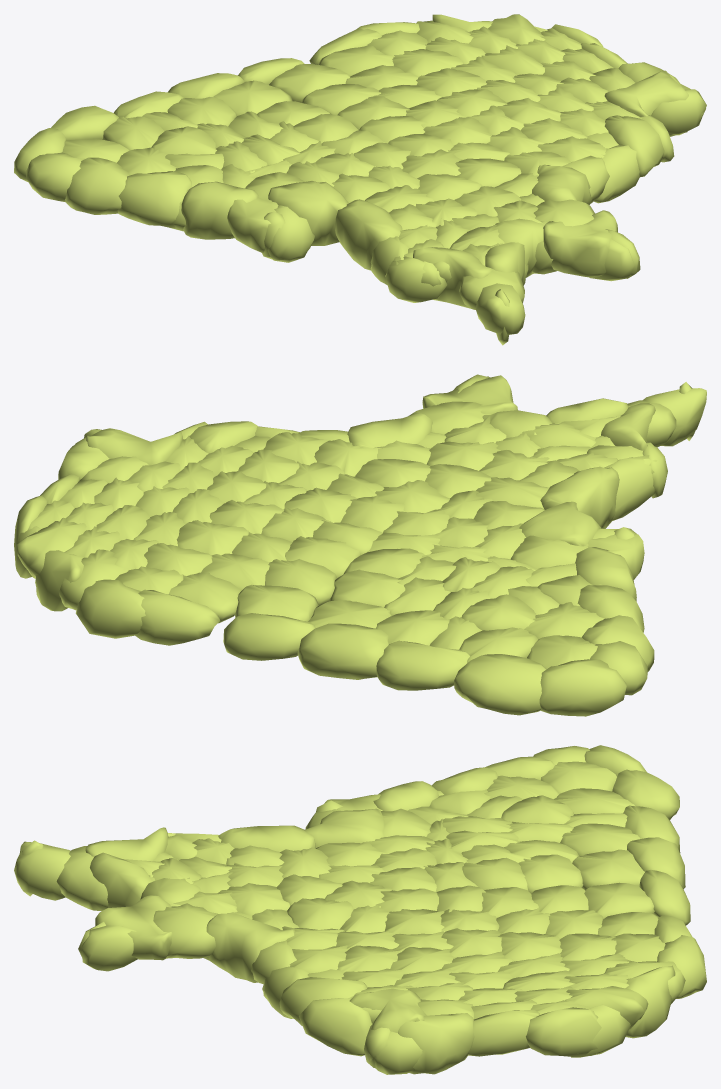
The model's file is Islands1.002_fog.fbx.
3 views of the same model, one above another, from view 1: azimuth 30°, elevation 25°; view 2: azimuth 150°, elevation 25°; view 3: azimuth 270°, elevation 25° (orthographic). The views are drawn at different scales.
Parts seen in each view (by area): view 1: Island1.002_fog_cell.076, Island1.002_fog_cell.111, Island1.002_fog_cell.098, Island1.002_fog_cell.095, Island1.002_fog_cell.021, Island1.002_fog_cell.114, Island1.002_fog_cell.110, Island1.002_fog_cell.075, Island1.002_fog_cell.010, Island1.002_fog_cell.087, Island1.002_fog_cell.123, Island1.002_fog_cell.041 (+98 smaller); view 2: Island1.002_fog_cell.037, Island1.002_fog_cell.103, Island1.002_fog_cell.102, Island1.002_fog_cell.011, Island1.002_fog_cell.066, Island1.002_fog_cell.062, Island1.002_fog_cell.020, Island1.002_fog_cell.021, Island1.002_fog_cell.107, Island1.002_fog_cell.095, Island1.002_fog_cell.110, Island1.002_fog_cell.091 (+96 smaller); view 3: Island1.002_fog_cell.091, Island1.002_fog_cell.119, Island1.002_fog_cell.071, Island1.002_fog_cell.038, Island1.002_fog_cell.076, Island1.002_fog_cell.043, Island1.002_fog_cell.080, Island1.002_fog_cell.123, Island1.002_fog_cell.095, Island1.002_fog_cell.070, Island1.002_fog_cell.034, Island1.002_fog_cell.037 (+97 smaller).
Part boxes in pixels (x1,y1,x2,y2): Island1.002_fog_cell.076: [543, 210, 617, 277]; Island1.002_fog_cell.111: [117, 171, 191, 228]; Island1.002_fog_cell.098: [181, 181, 258, 239]; Island1.002_fog_cell.095: [268, 181, 348, 245]; Island1.002_fog_cell.021: [335, 199, 402, 270]; Island1.002_fog_cell.114: [65, 157, 129, 214]; Island1.002_fog_cell.110: [604, 70, 688, 136]; Island1.002_fog_cell.075: [604, 115, 664, 177]; Island1.002_fog_cell.010: [26, 152, 84, 202]; Island1.002_fog_cell.087: [413, 247, 492, 308]; Island1.002_fog_cell.123: [476, 283, 525, 334]; Island1.002_fog_cell.041: [385, 256, 447, 302]; Island1.002_fog_cell.037: [454, 654, 546, 715]; Island1.002_fog_cell.103: [297, 623, 388, 679]; Island1.002_fog_cell.102: [539, 659, 626, 716]; Island1.002_fog_cell.011: [376, 640, 469, 690]; Island1.002_fog_cell.066: [223, 613, 315, 660]; Island1.002_fog_cell.062: [134, 589, 220, 645]; Island1.002_fog_cell.020: [75, 579, 145, 638]; Island1.002_fog_cell.021: [540, 466, 619, 528]; Island1.002_fog_cell.107: [234, 584, 318, 621]; Island1.002_fog_cell.095: [519, 501, 601, 546]; Island1.002_fog_cell.110: [86, 428, 182, 465]; Island1.002_fog_cell.091: [347, 413, 432, 448]; Island1.002_fog_cell.091: [204, 913, 294, 982]; Island1.002_fog_cell.119: [398, 1013, 474, 1074]; Island1.002_fog_cell.071: [298, 998, 372, 1056]; Island1.002_fog_cell.038: [526, 1007, 601, 1057]; Island1.002_fog_cell.076: [95, 895, 172, 960]; Island1.002_fog_cell.043: [153, 903, 217, 958]; Island1.002_fog_cell.080: [468, 1009, 540, 1056]; Island1.002_fog_cell.123: [14, 841, 70, 900]; Island1.002_fog_cell.095: [304, 808, 384, 848]; Island1.002_fog_cell.070: [90, 852, 152, 910]; Island1.002_fog_cell.034: [625, 965, 675, 1038]; Island1.002_fog_cell.037: [612, 769, 679, 819].
Bounding box in the file's own units: 125 × 11.48 × 122.
